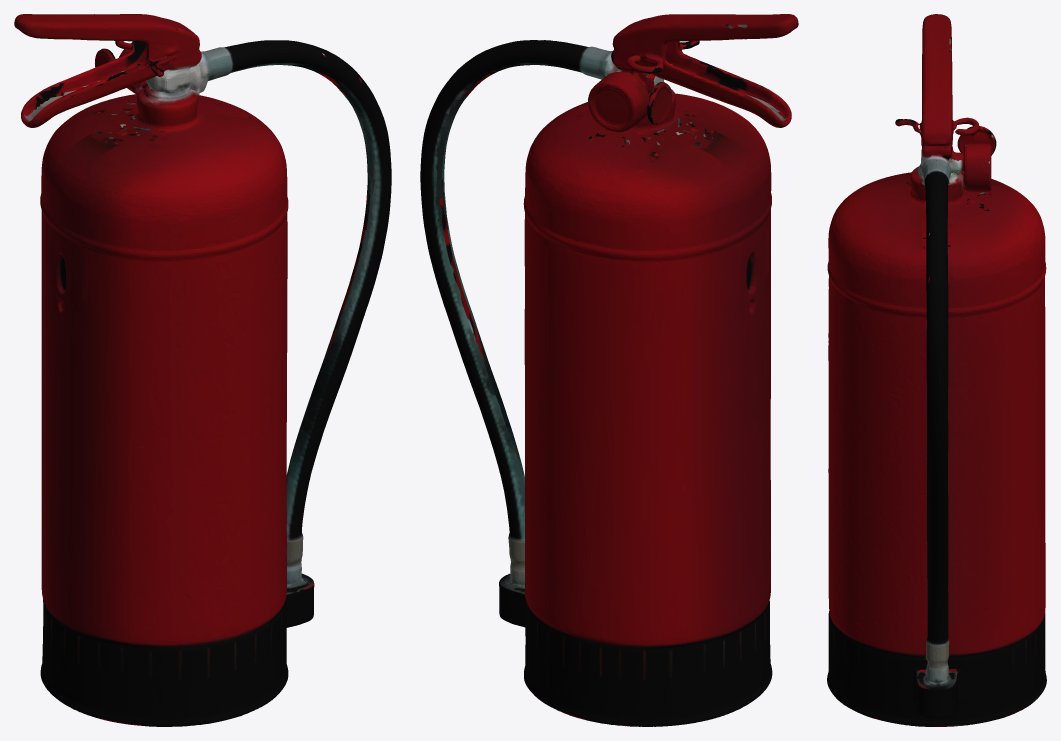
Rendered from ds-fire-extinguisher.glb.
The picture shows the model from 3 angles, left to right: view 1: azimuth 30°, elevation 25°; view 2: azimuth 150°, elevation 25°; view 3: azimuth 270°, elevation 25°; orthographic projection. The views are drawn at different scales.
Parts seen in each view (by area): view 1: world; view 2: world; view 3: world.
Part boxes in pixels (left/top/right/bottom): world: left=14, top=14, right=391, bottom=726; world: left=420, top=14, right=798, bottom=726; world: left=827, top=14, right=1046, bottom=726.
Bounding box in the file's own units: 1.13 × 1.99 × 0.6549.
Materials: 1 (1 with a texture image).
